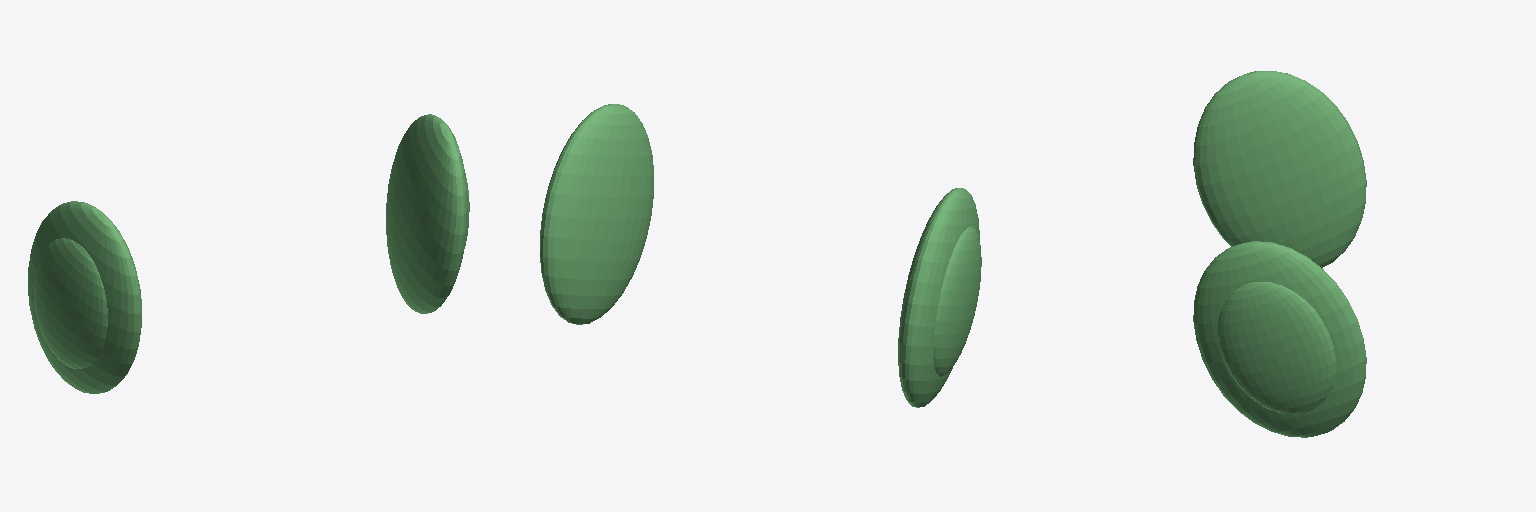
File: shoulderpads.obj
3 views of the same model, side by side, from view 1: azimuth 30°, elevation 25°; view 2: azimuth 150°, elevation 25°; view 3: azimuth 270°, elevation 25° (orthographic).
Parts seen in each view (by area): view 1: vn_alternatedash_shoulderpads; view 2: vn_alternatedash_shoulderpads; view 3: vn_alternatedash_shoulderpads.
Boxes of the visible parts, x1=… form: vn_alternatedash_shoulderpads: x1=28, y1=114, x2=469, y2=393; vn_alternatedash_shoulderpads: x1=540, y1=104, x2=981, y2=407; vn_alternatedash_shoulderpads: x1=1193, y1=71, x2=1366, y2=437.
Size of the model in its own units: 12.04 by 5.69 by 4.49.